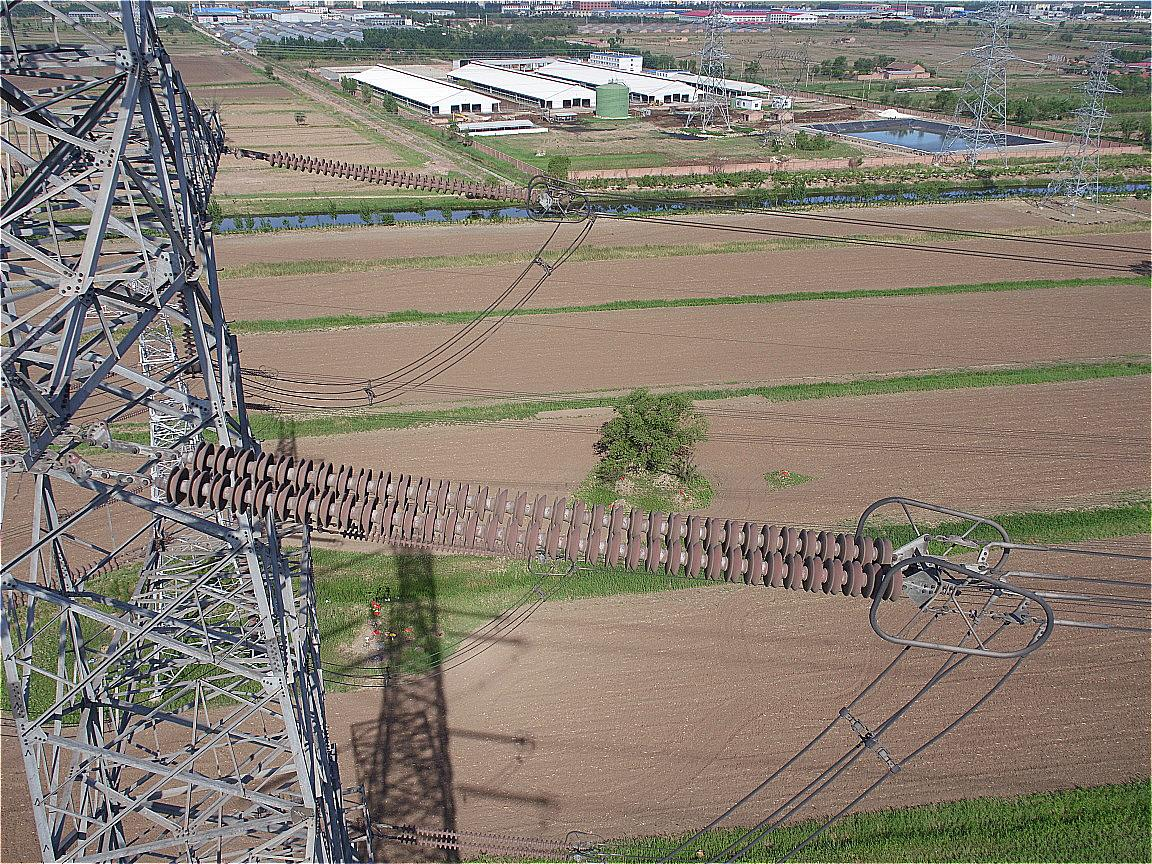insultor1: (268, 149, 539, 205)
insultor2: (166, 441, 903, 602)
